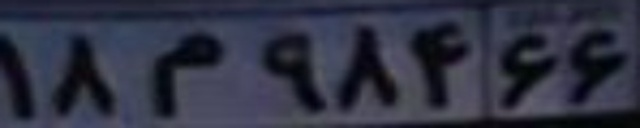1: (1, 32, 36, 120)
4: (407, 22, 473, 108)
6: (495, 31, 557, 109), (568, 29, 629, 106)
8: (47, 33, 117, 117), (335, 25, 398, 108)
9: (256, 32, 328, 112)
mim: (141, 30, 224, 119)
